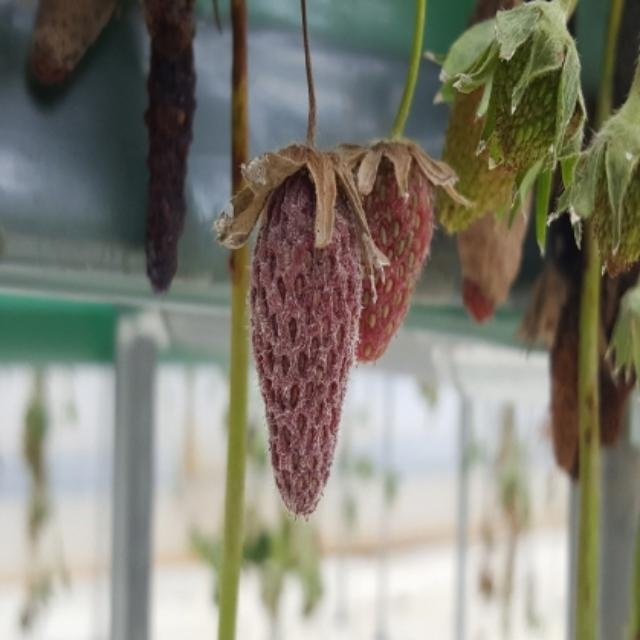Powdery Mildew Fruit: (247, 153, 379, 518), (342, 140, 458, 365)
